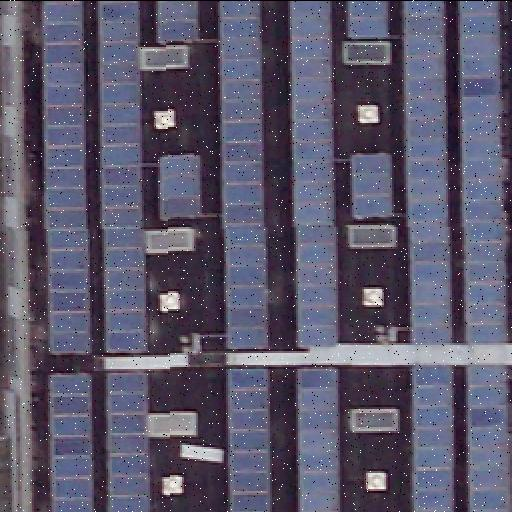solar-panel: (288, 0, 340, 348), (99, 0, 149, 352), (403, 0, 453, 346), (44, 0, 92, 352), (220, 1, 268, 351), (458, 0, 506, 344), (465, 364, 511, 512), (409, 368, 455, 512), (296, 368, 340, 512), (105, 376, 151, 512), (49, 376, 95, 512), (227, 369, 269, 511), (160, 154, 204, 222), (352, 153, 392, 215), (158, 0, 202, 44), (347, 1, 389, 39)
